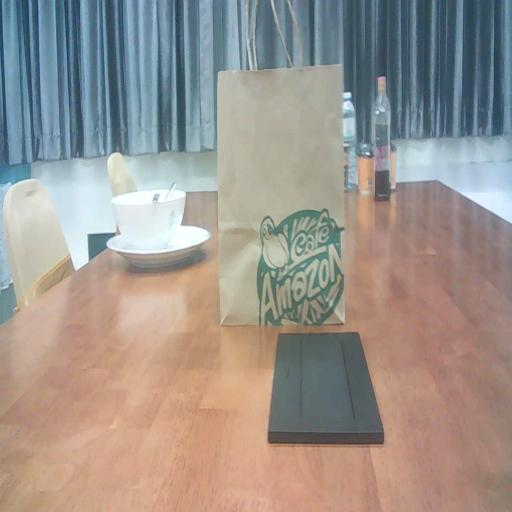bag: (216, 54, 349, 329)
